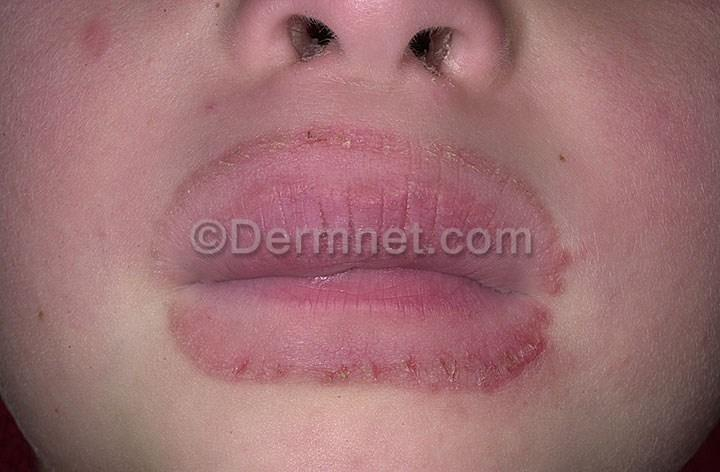Eczema: (208, 348, 307, 391), (326, 352, 438, 389), (240, 126, 372, 156), (464, 356, 550, 399), (408, 135, 487, 170), (548, 237, 580, 298), (528, 308, 569, 348)
